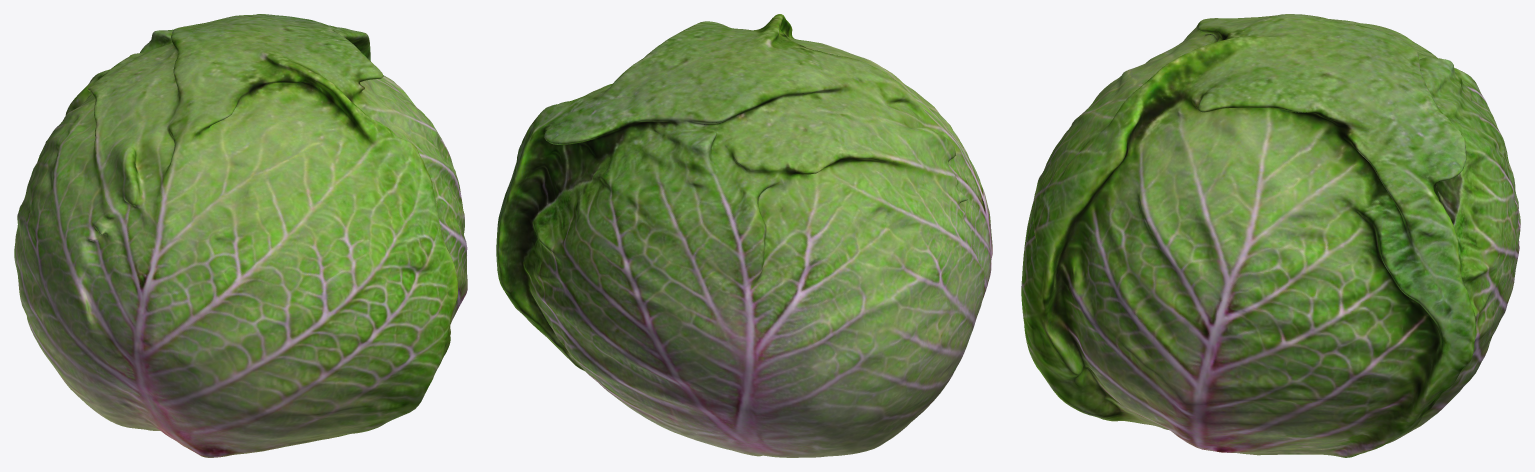
Rendered from poke_ball_09cabbage.glb.
The picture shows the model from 3 angles, left to right: view 1: azimuth 30°, elevation 25°; view 2: azimuth 150°, elevation 25°; view 3: azimuth 270°, elevation 25°; orthographic projection. The views are drawn at different scales.
Visible parts, largest first — view 1: geometry_0; view 2: geometry_0; view 3: geometry_0.
Part boxes in pixels (x1=…): geometry_0: x1=14, y1=14, x2=467, y2=457; geometry_0: x1=496, y1=14, x2=992, y2=457; geometry_0: x1=1021, y1=14, x2=1520, y2=457.
Bounding box in the file's own units: 2.62 × 2.26 × 2.63.
1 material, 1 textured.
